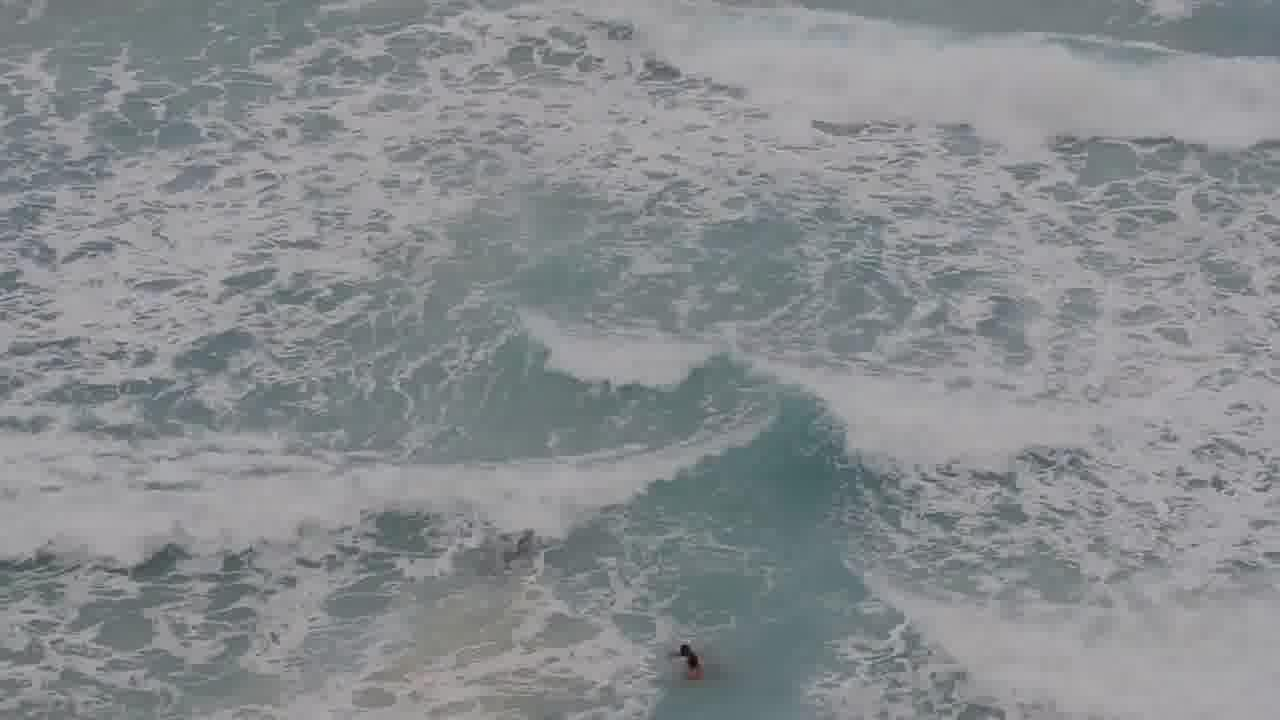swimmer: (676, 632, 714, 676)
